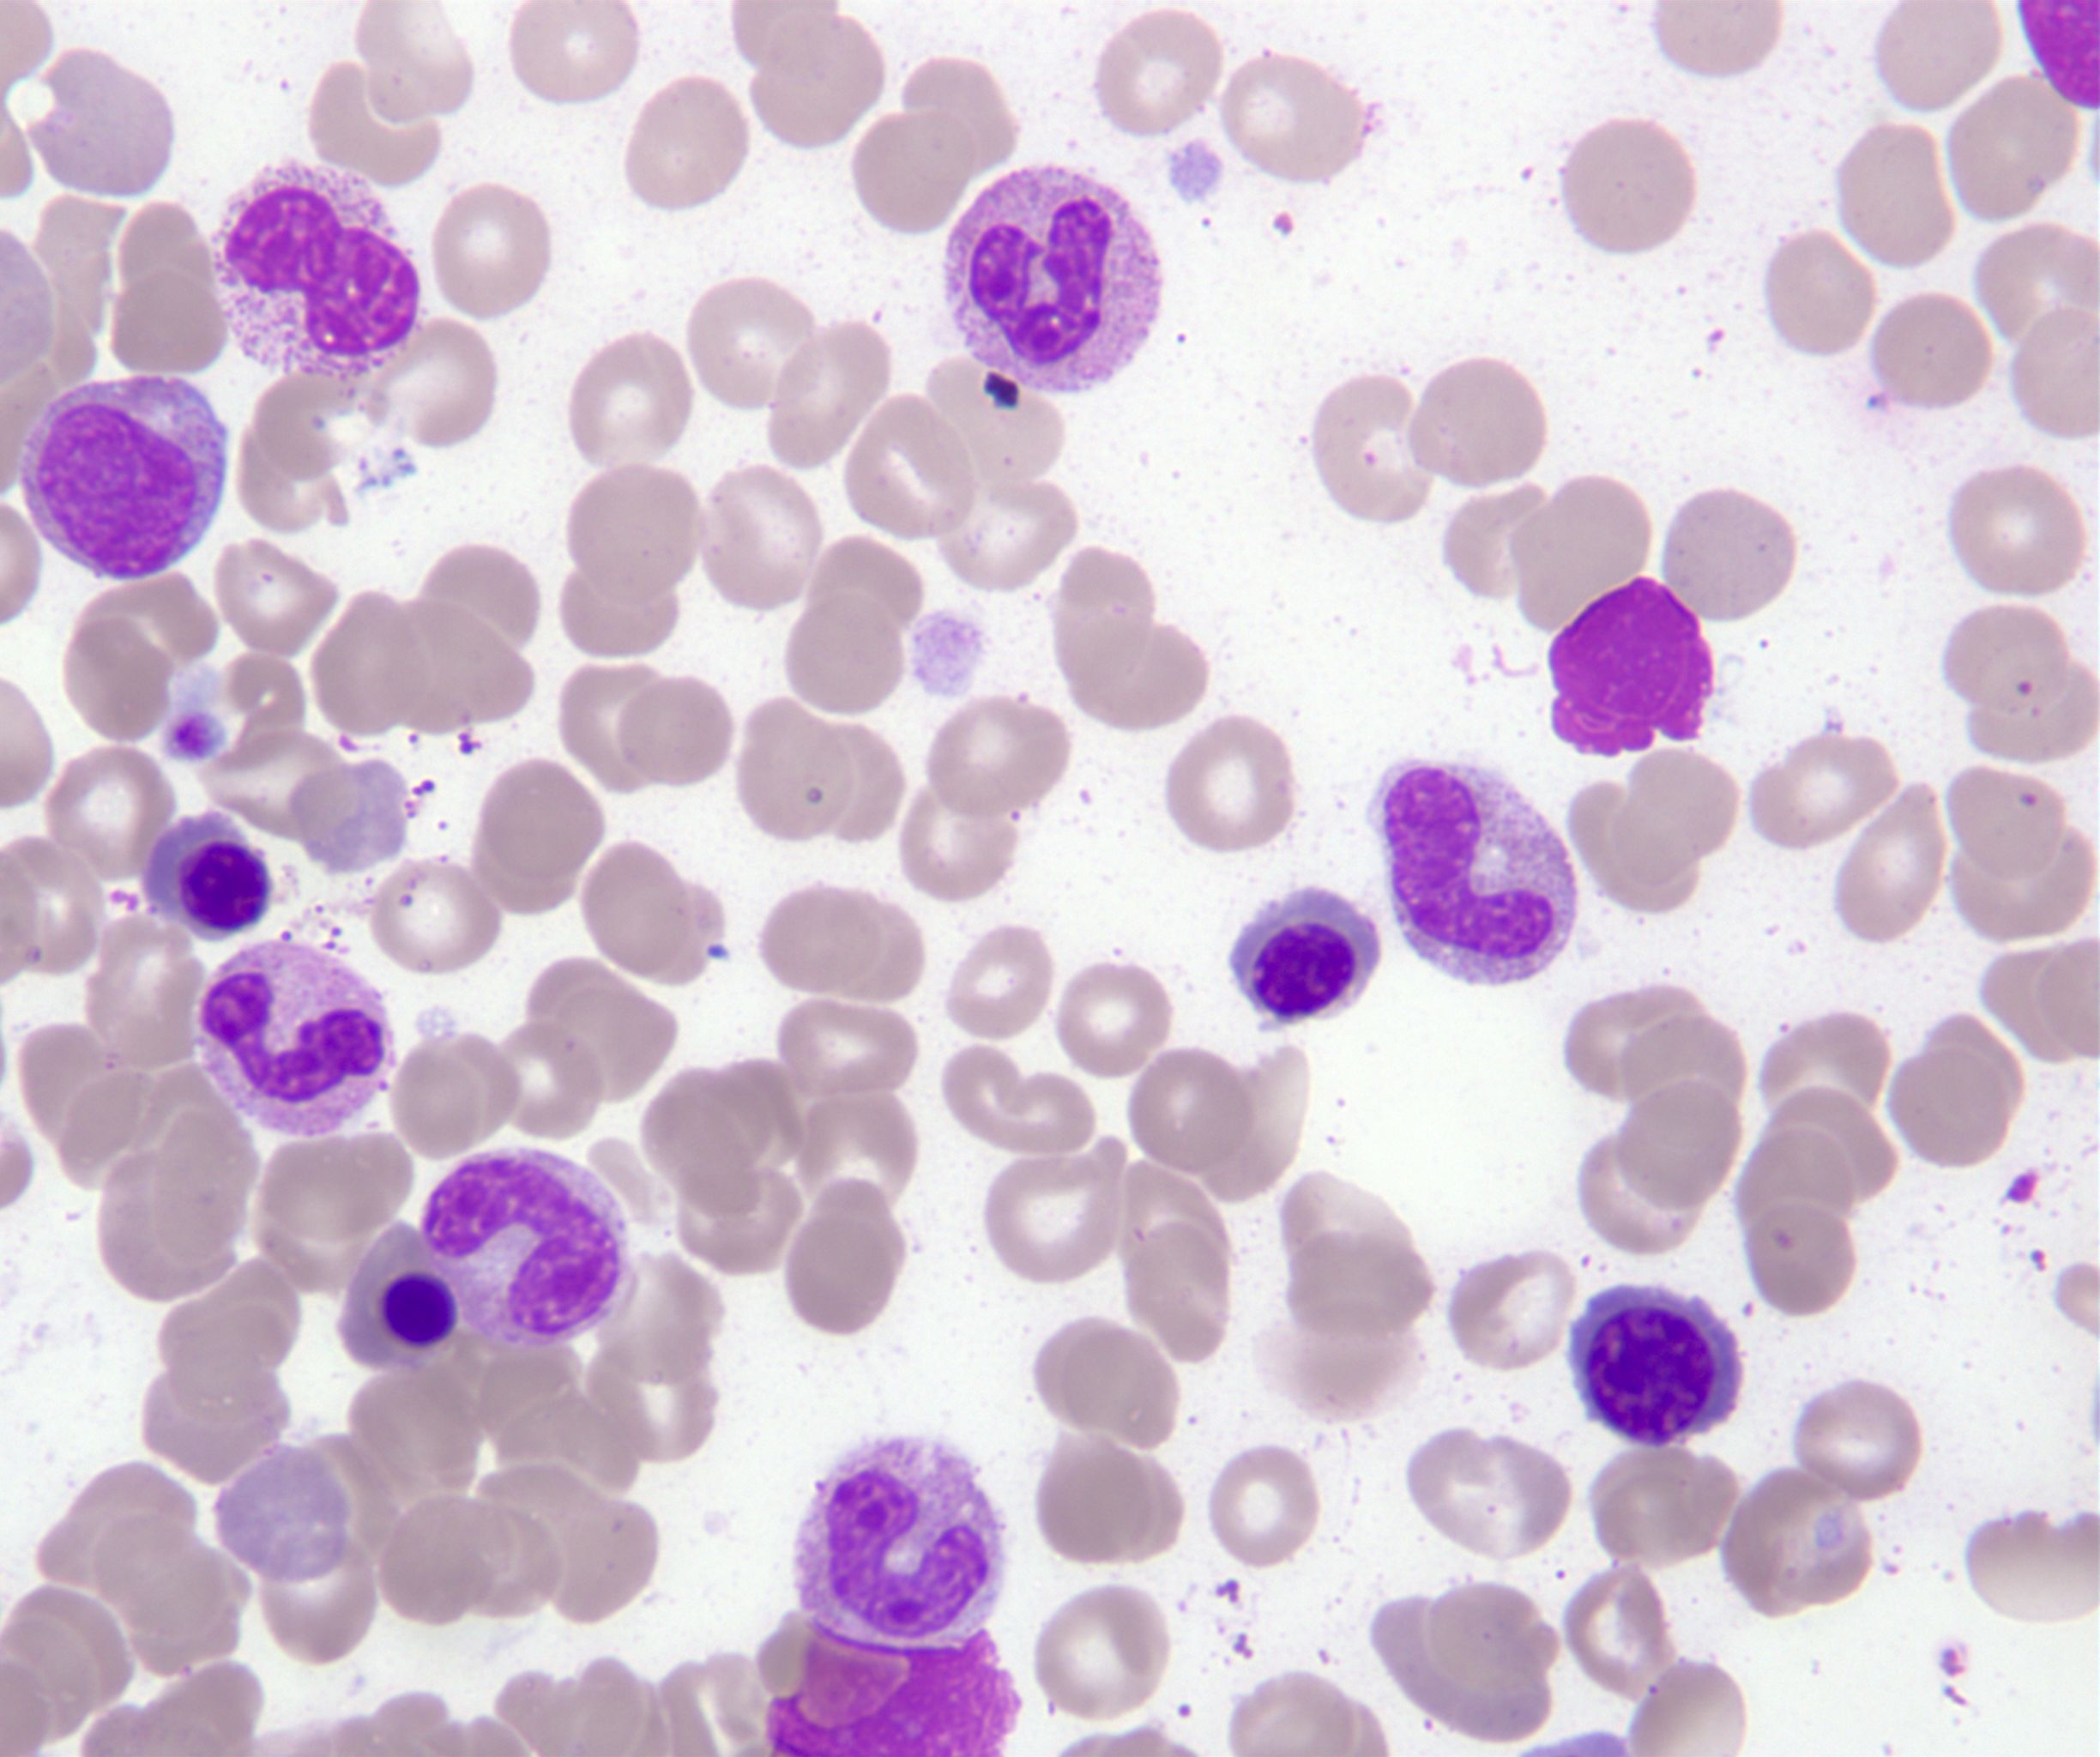24: (1573, 1286, 1741, 1448), (1231, 890, 1381, 1019), (338, 1223, 455, 1364), (145, 817, 272, 940)
3: (23, 375, 227, 579)
5: (945, 171, 1160, 394), (1371, 761, 1577, 982), (797, 1439, 1005, 1652), (422, 1152, 630, 1343), (194, 946, 396, 1136)
x: (213, 161, 420, 382), (759, 1612, 1020, 1757), (1549, 581, 1715, 755)
